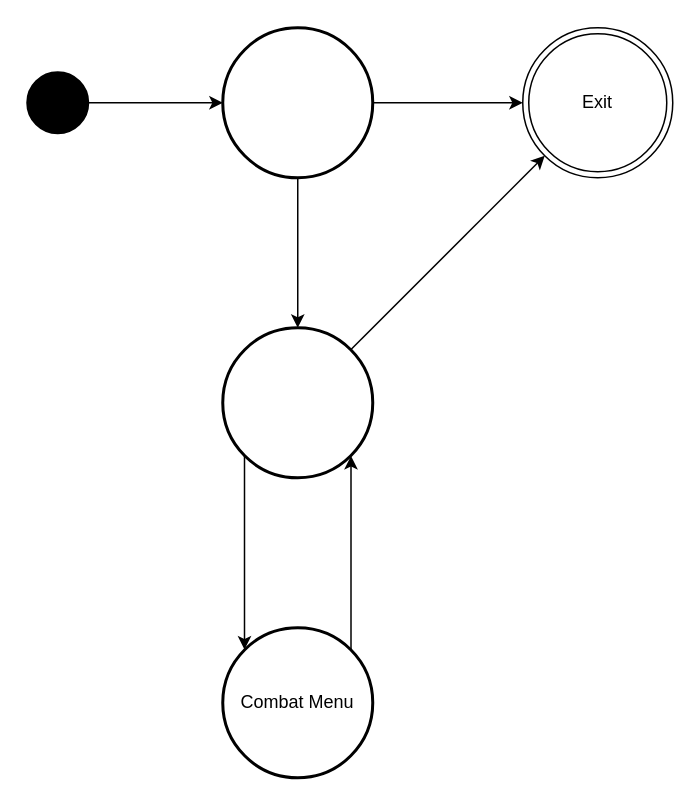
The diagram is 699 pixels wide and 804 high, and some of its shapes have lost their labels. Each missing label, with the centre of its shape:
Test: (297,402)
Title Menu: (297,102)
